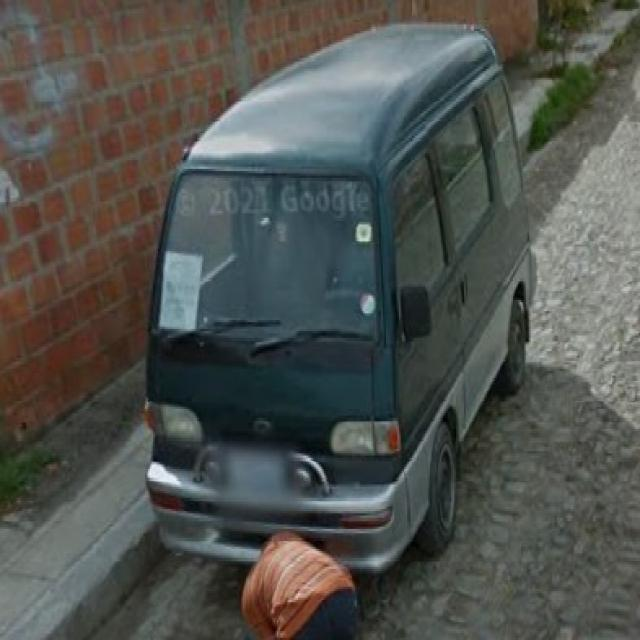cars: (147, 34, 538, 571)
